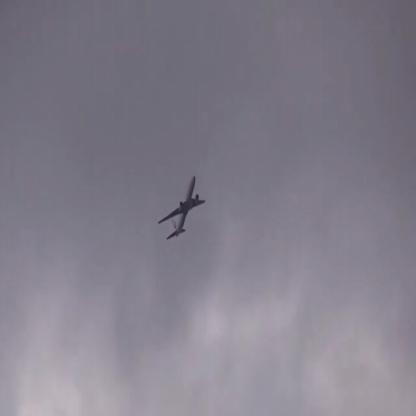CIV_Plane: (158, 175, 208, 239)
